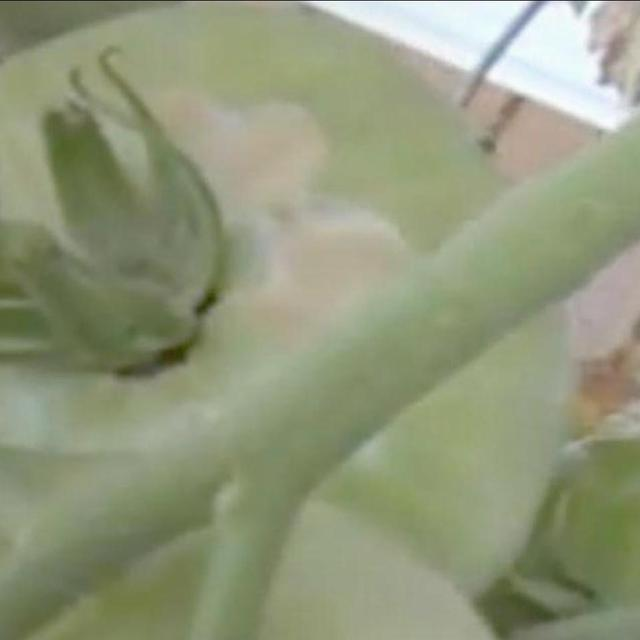Sunscald Fruit: (40, 39, 305, 254)
